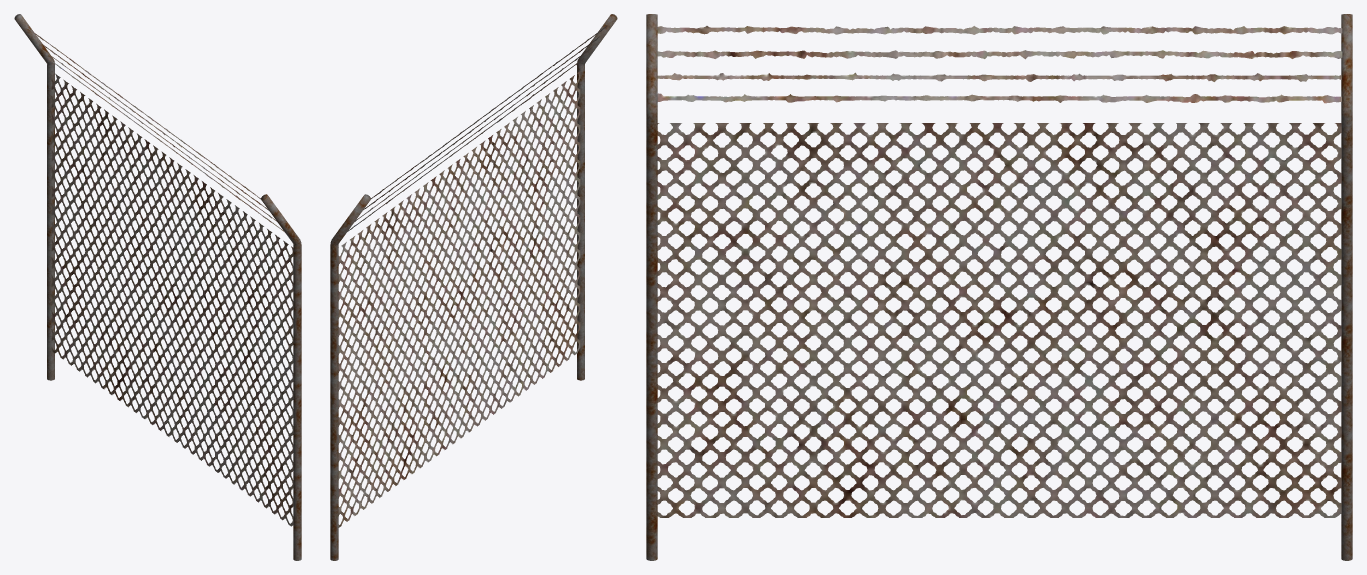
The model's file is bw-fence.lod0.glb.
The picture shows the model from 3 angles, left to right: view 1: azimuth 30°, elevation 25°; view 2: azimuth 150°, elevation 25°; view 3: azimuth 270°, elevation 25°; orthographic projection. The views are drawn at different scales.
Visible parts, largest first — view 1: Object_4; view 2: Object_4; view 3: Object_4.
Part boxes in pixels (left/top/right/bottom): Object_4: left=14, top=14, right=301, bottom=560; Object_4: left=330, top=14, right=617, bottom=560; Object_4: left=646, top=14, right=1352, bottom=560.
Size of the model in its own units: 0.3547 by 3.2 by 3.91.
Materials: 1 (1 with a texture image).
